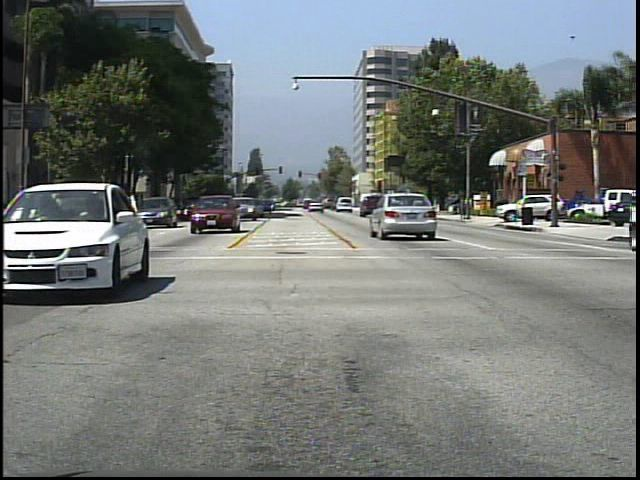person: (430, 189, 448, 219), (461, 190, 477, 222)
